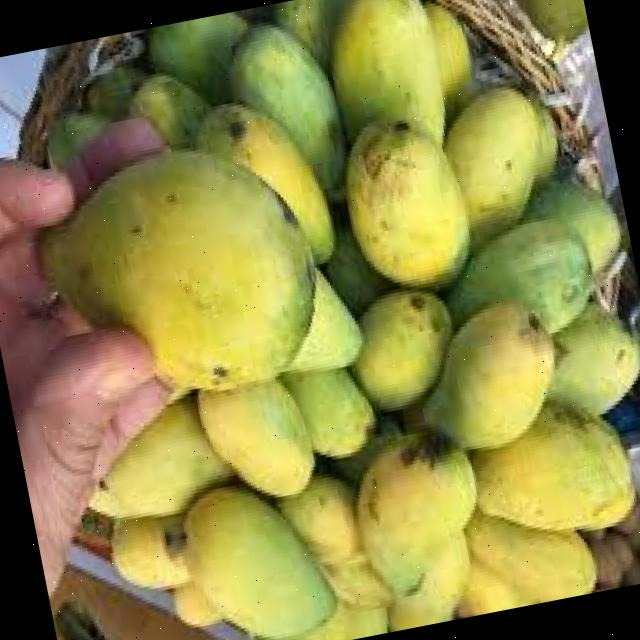mango: (35, 146, 314, 391)
